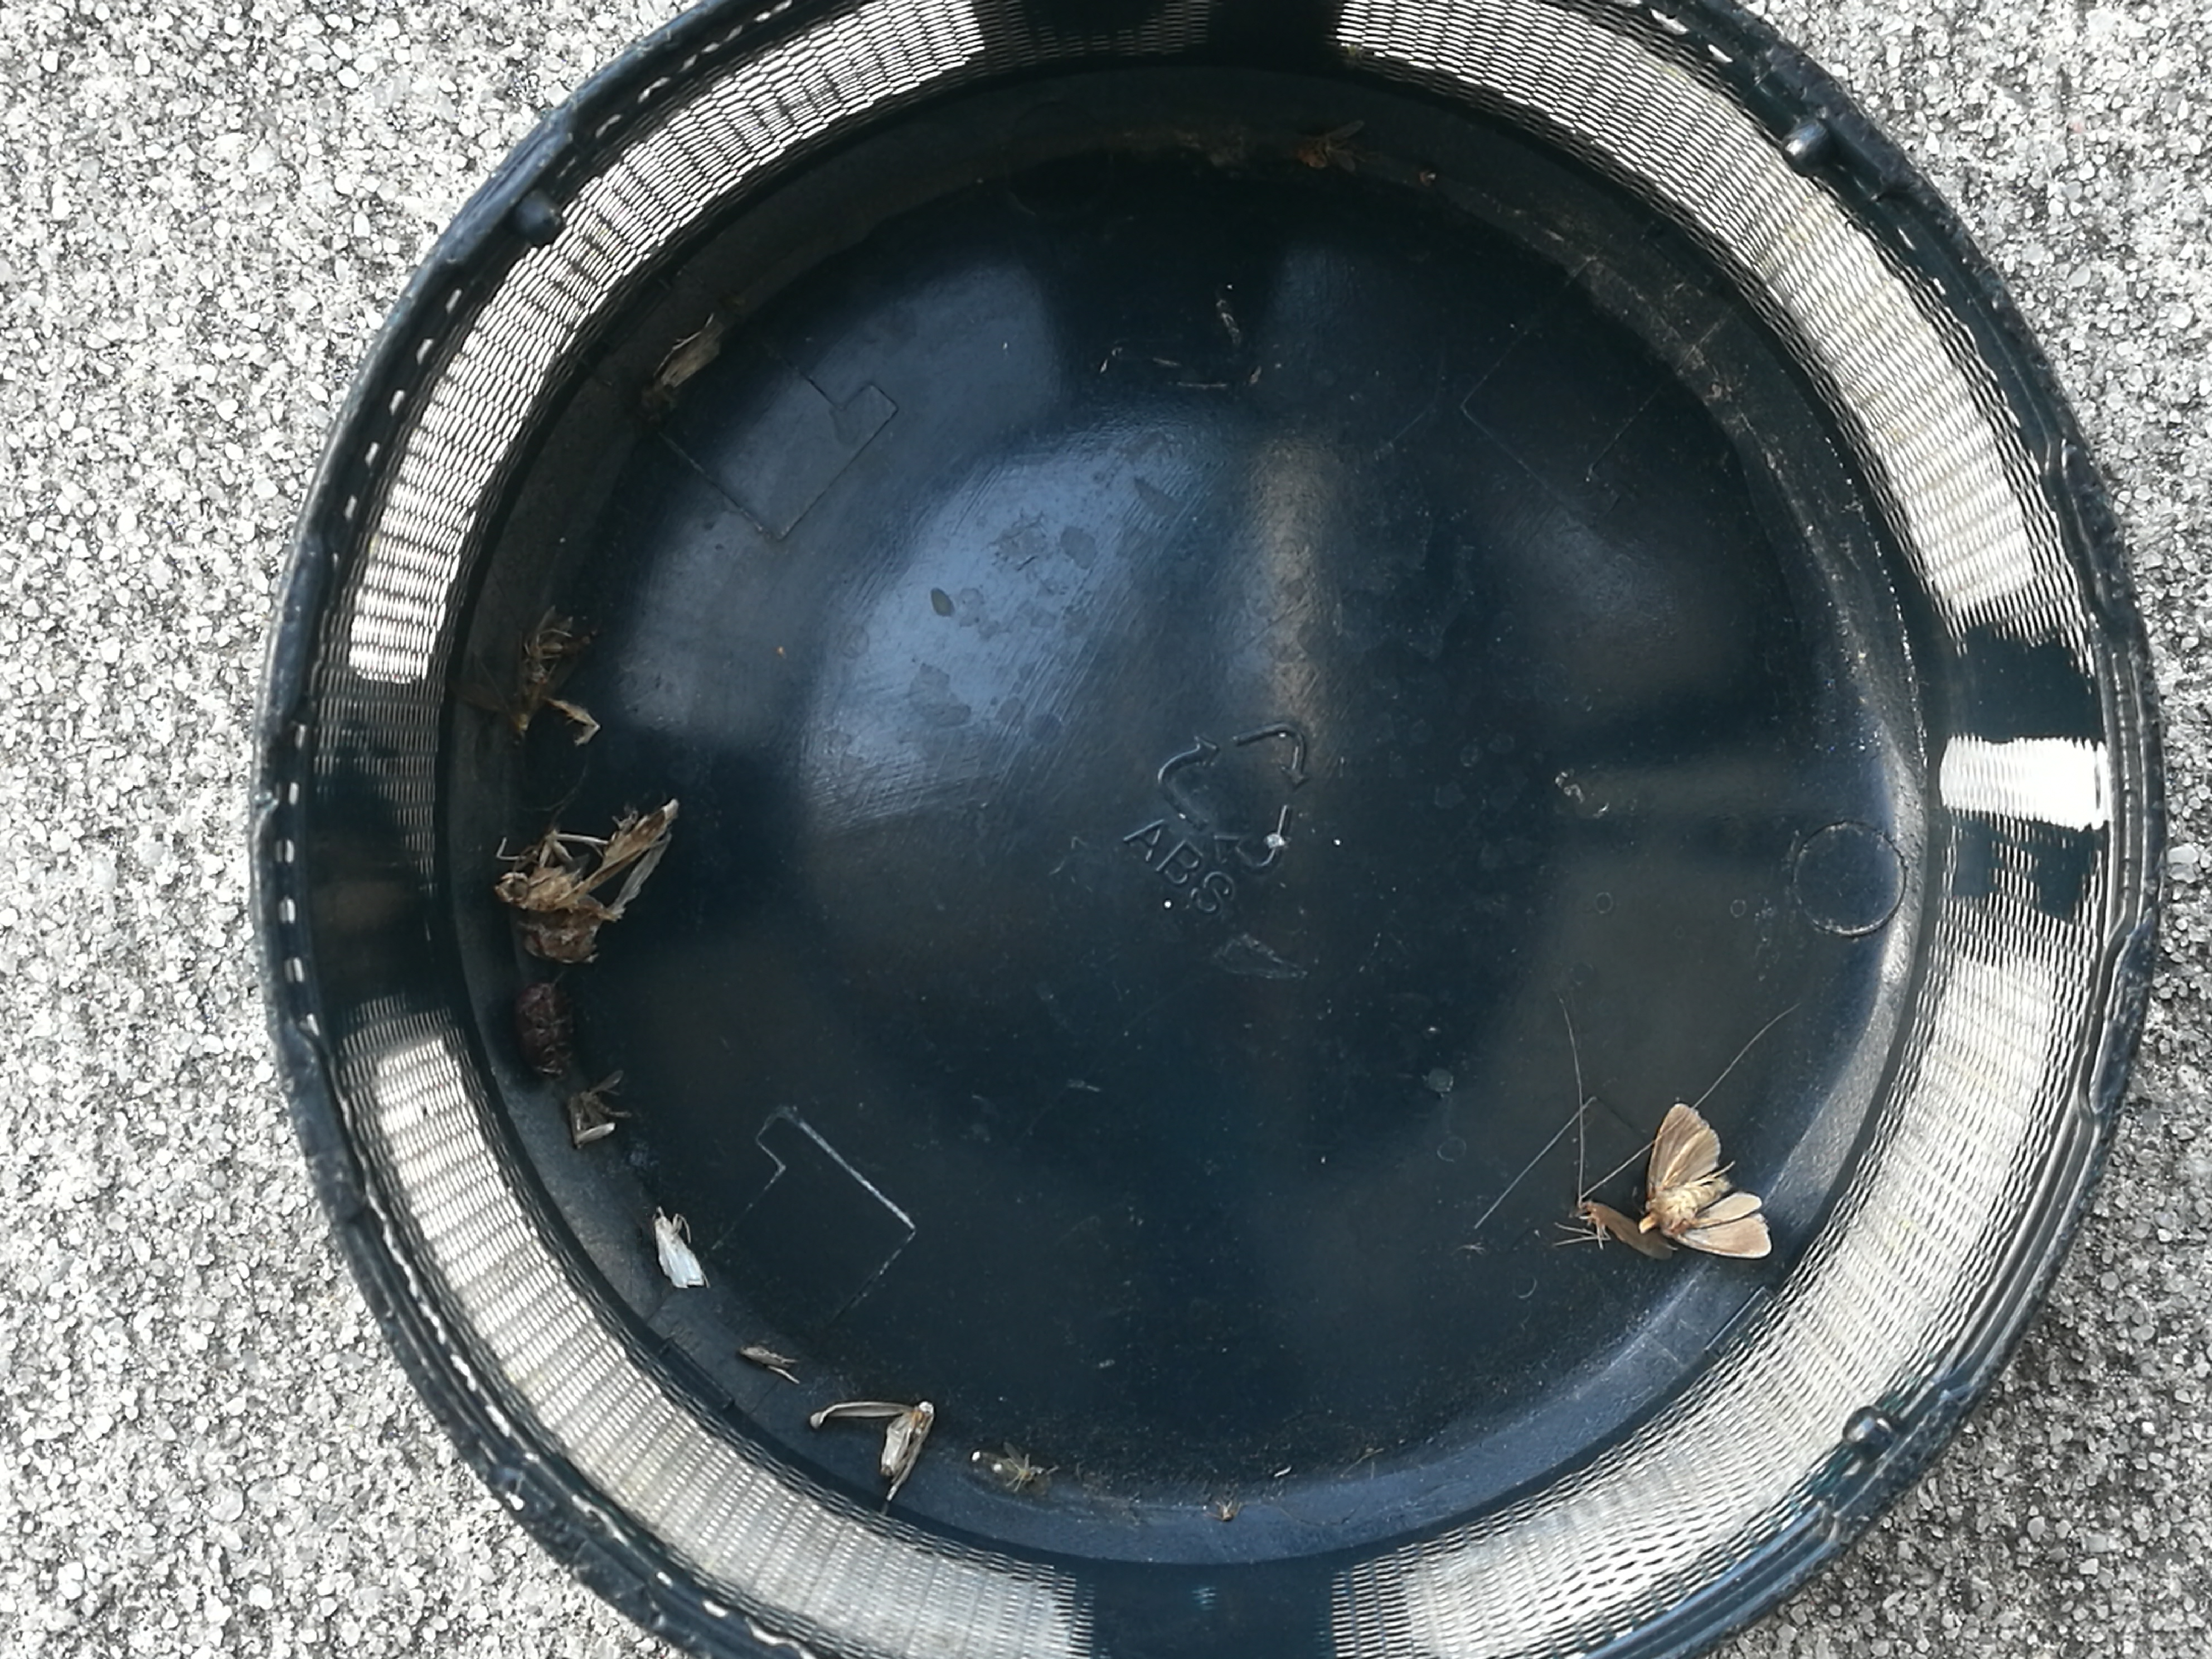beetle: (512, 979, 575, 1077)
mosquito: (1576, 1201, 1672, 1260), (657, 319, 726, 394), (880, 1403, 932, 1476), (514, 659, 540, 744), (744, 1347, 784, 1363)
moth: (1646, 1107, 1770, 1260), (655, 1208, 705, 1288), (1306, 117, 1362, 174)
